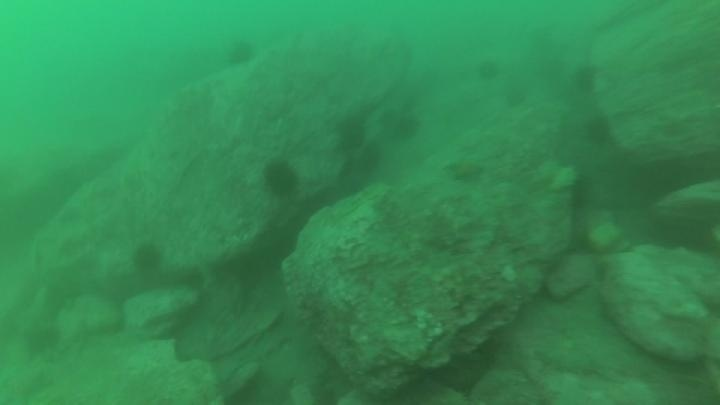echinus: (261, 157, 301, 200), (333, 113, 370, 154), (22, 321, 63, 358), (130, 240, 166, 276), (352, 141, 385, 177), (389, 110, 423, 144), (581, 114, 614, 147), (570, 62, 601, 97), (225, 38, 257, 69), (502, 84, 529, 111), (474, 57, 502, 83)
starfish: (443, 155, 487, 185)
